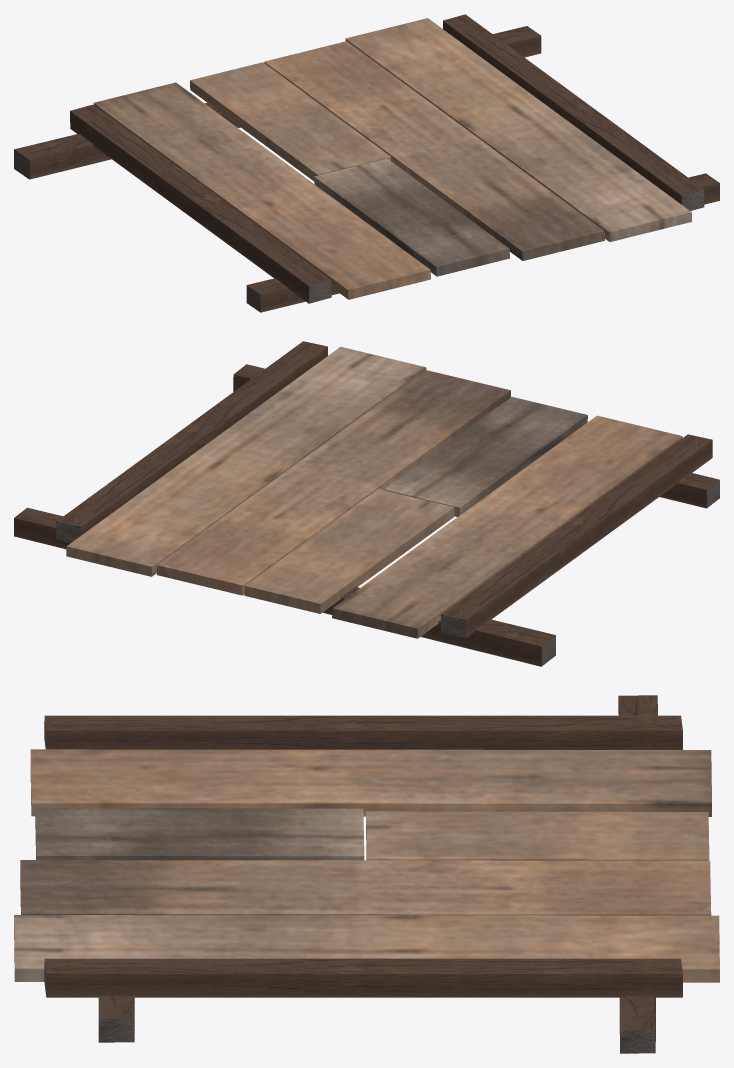
The model's file is jov_Pier0a.fbx.
3 renders of one model, top to bottom at view 1: azimuth 30°, elevation 25°; view 2: azimuth 150°, elevation 25°; view 3: azimuth 270°, elevation 25°, orthographic. The views are drawn at different scales.
Visible parts, largest first — view 1: jov_Pier0a; view 2: jov_Pier0a; view 3: jov_Pier0a.
Boxes of the visible parts, x1,y1,x2,y2 form: jov_Pier0a: (14, 14, 719, 312); jov_Pier0a: (14, 341, 719, 666); jov_Pier0a: (14, 695, 719, 1053).
Bounding box in the file's own units: 214 × 14.38 × 192.
